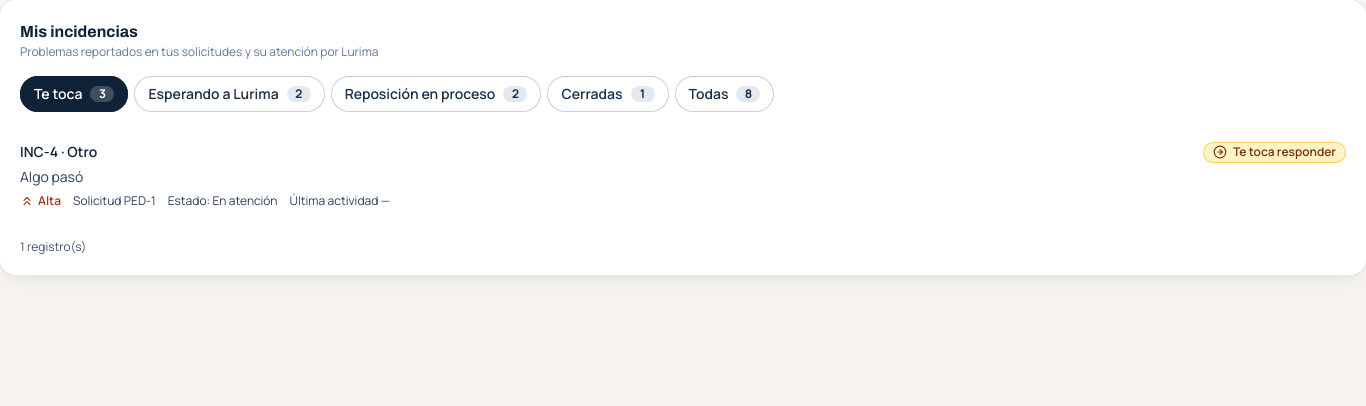
Test: bandeja de la sucursal › abre en «Te toca» y cambia de bandeja conservándola en la URL
Expected: the text "INC-4 · Otro" is shown, [20,142,97,162]
Expected: the text "Te toca responder" is shown, [1233,144,1336,160]
Click the tab "Reposición en proceso 2".
click(436, 94)  # box [331,76,541,112]
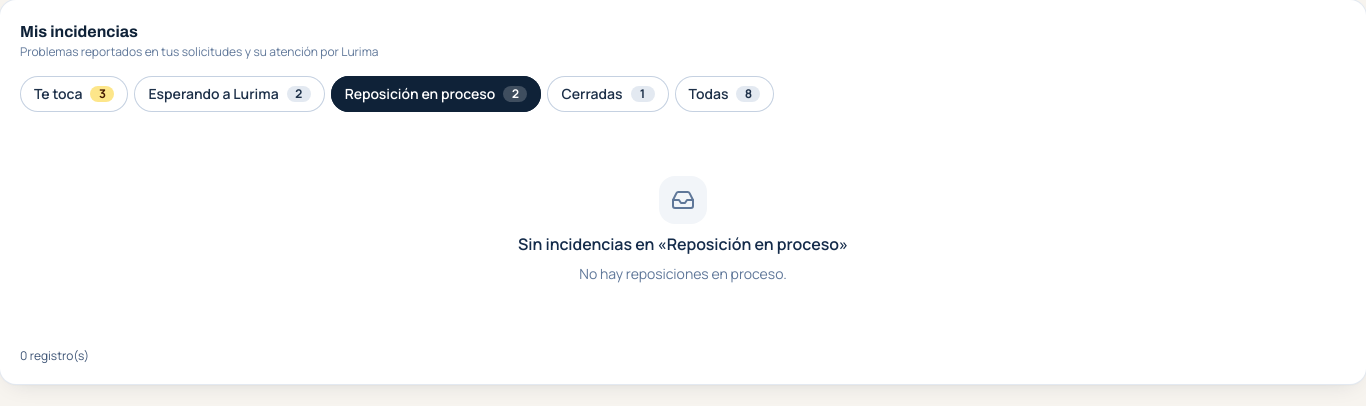
Expected: the text "Sin incidencias en «Reposición en proceso»" is shown, [518,232,848,256]
